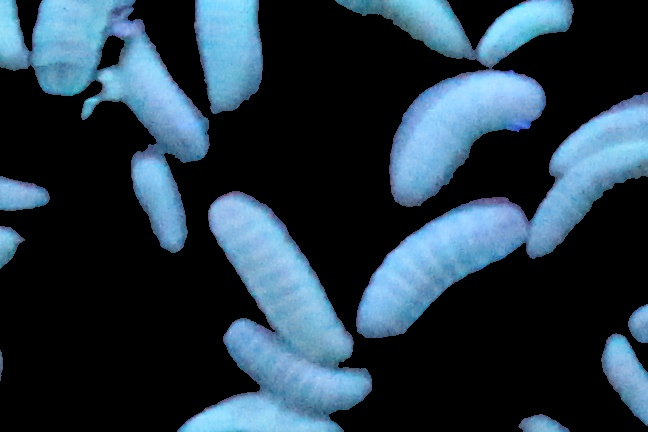larvae: (204, 190, 350, 364), (357, 201, 529, 338), (387, 73, 546, 206), (528, 141, 648, 261), (112, 25, 212, 157), (226, 320, 369, 407), (27, 1, 133, 97), (549, 73, 648, 173), (191, 1, 274, 116), (167, 393, 350, 432), (124, 153, 188, 262), (334, 1, 469, 52), (472, 1, 574, 61), (597, 329, 648, 432), (1, 159, 49, 221), (1, 1, 30, 65)
